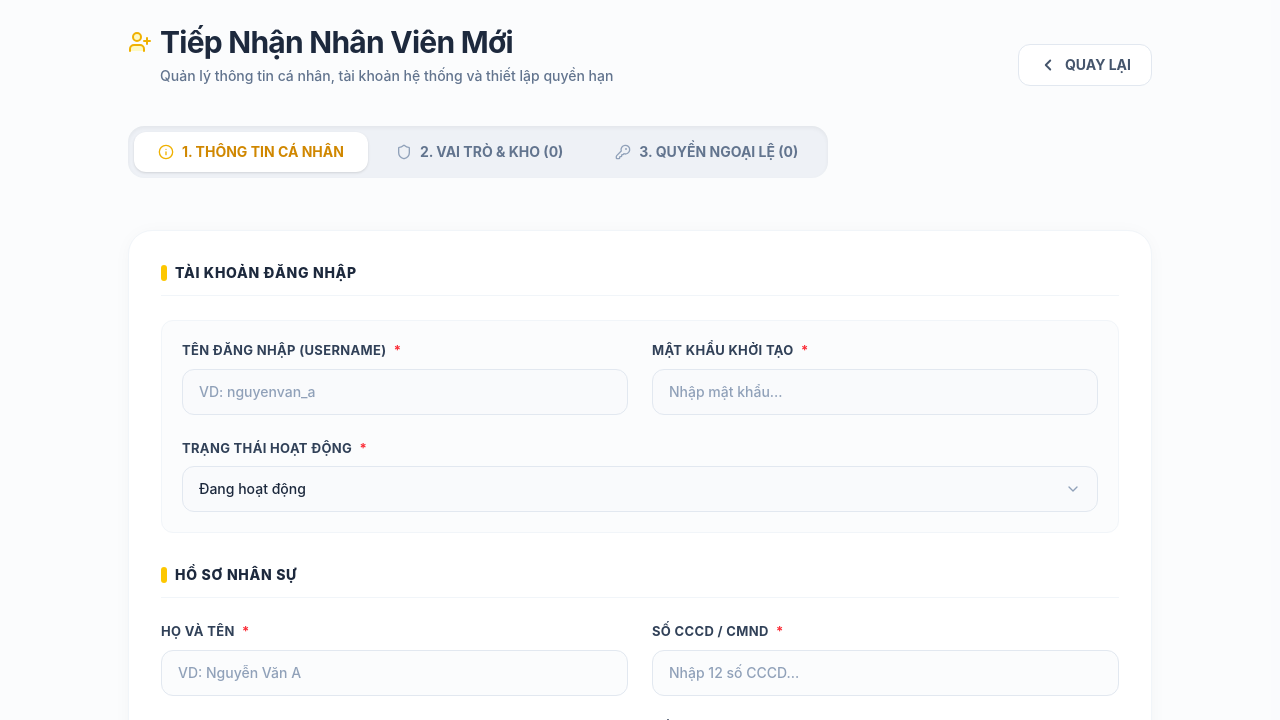
Module 01 - UserForm Component › TC03 - Chuyển sang Tab Vai trò & Kho và hiển thị danh sách để phân quyền
The width and height of the screenshot is (1280, 720).
Click the button "2. VAI TRÒ & KHO (0)" at (480, 152), box left=372, top=132, right=587, bottom=172
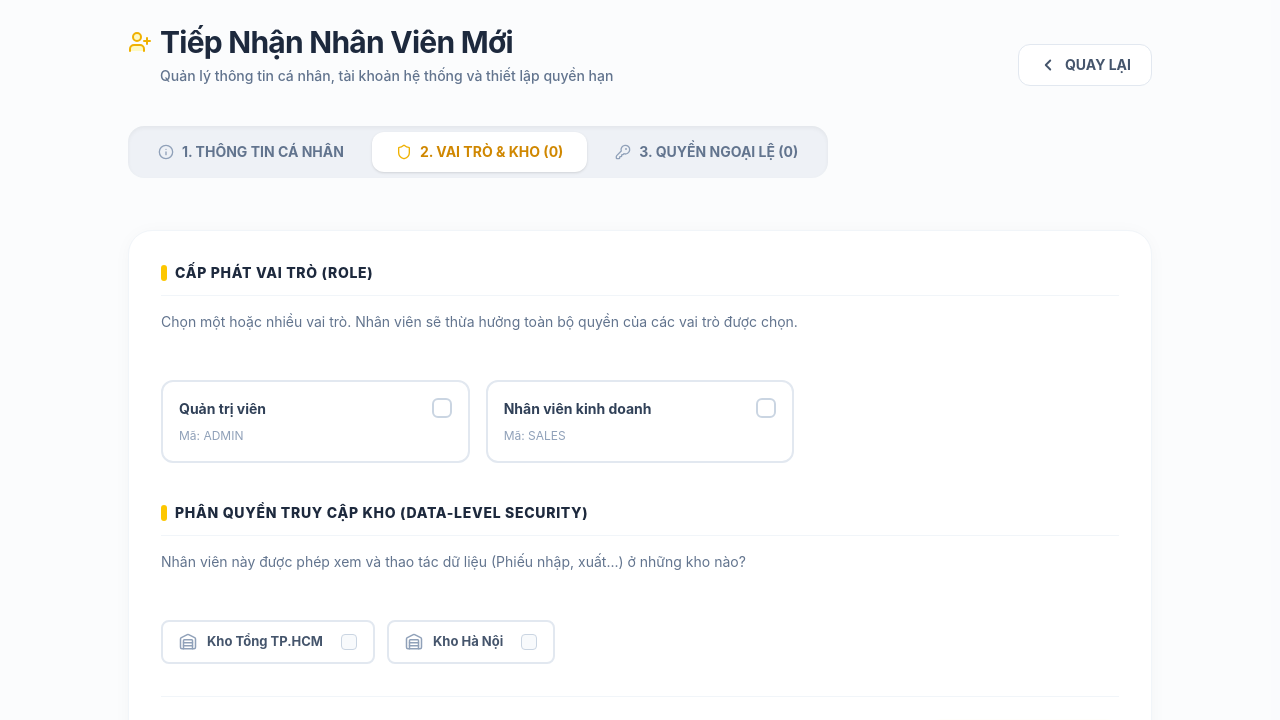
Expected: the text "Quản trị viên" is shown, left=179, top=398, right=266, bottom=419
Expected: the text "Nhân viên kinh doanh" is shown, left=504, top=398, right=652, bottom=419
Expected: the text "Kho Tổng TP.HCM" is shown, left=207, top=632, right=323, bottom=652
